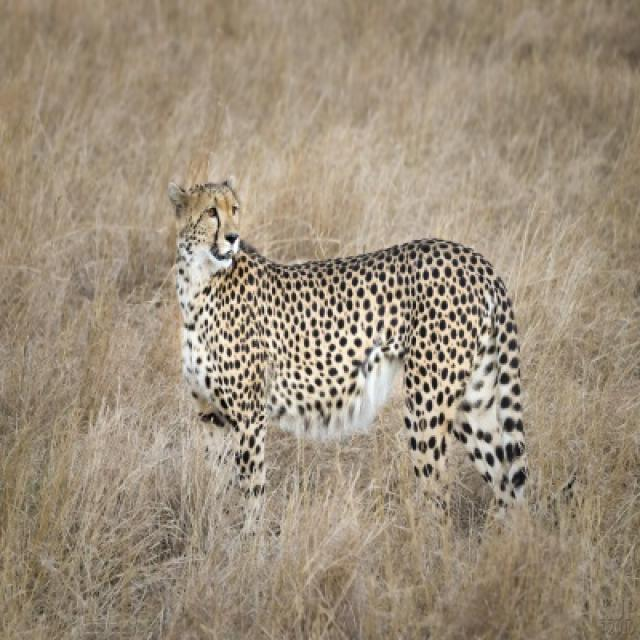Cheetah: (172, 182, 535, 532)
